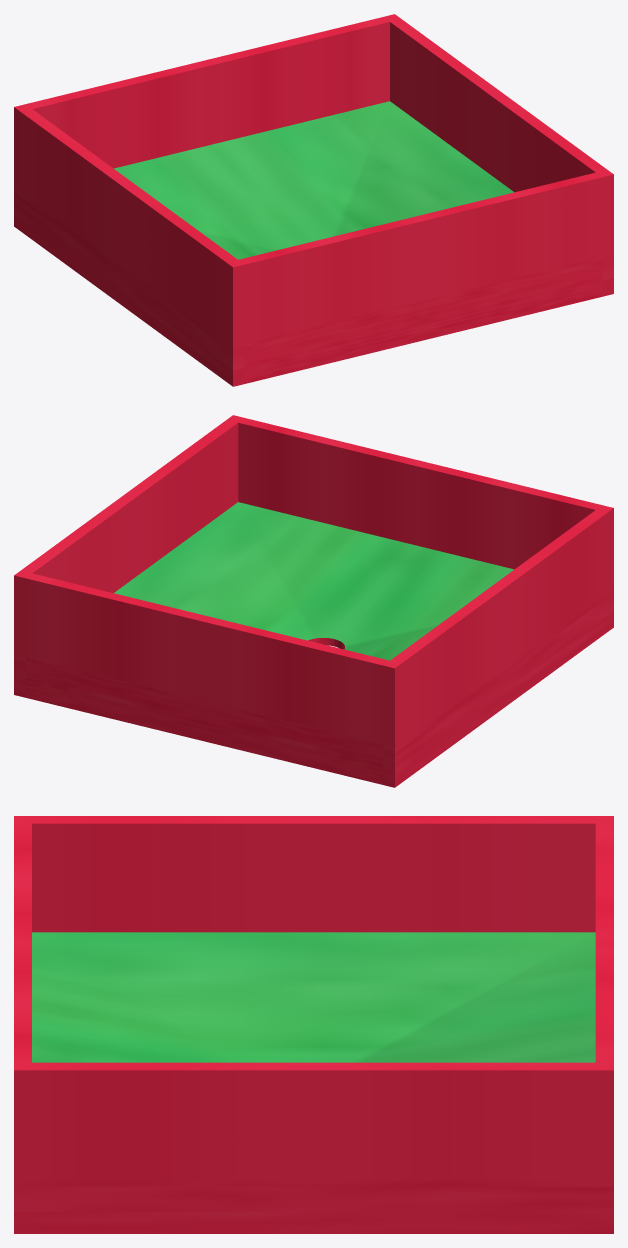
The model's file is HoleWithNoConction.fbx.
3 views of the same model, one above another, from view 1: azimuth 30°, elevation 25°; view 2: azimuth 150°, elevation 25°; view 3: azimuth 270°, elevation 25° (orthographic). The views are drawn at different scales.
Parts seen in each view (by area): view 1: Fence, HoleWithNoConction; view 2: Fence, HoleWithNoConction; view 3: Fence, HoleWithNoConction.
Boxes of the visible parts, x1,y1,x2,y2 form: Fence: (14, 14, 613, 386); HoleWithNoConction: (114, 101, 513, 259); Fence: (14, 415, 613, 787); HoleWithNoConction: (114, 502, 514, 660); Fence: (14, 816, 613, 1233); HoleWithNoConction: (32, 932, 595, 1062).
Size of the model in its own units: 100 by 30.07 by 99.98.
